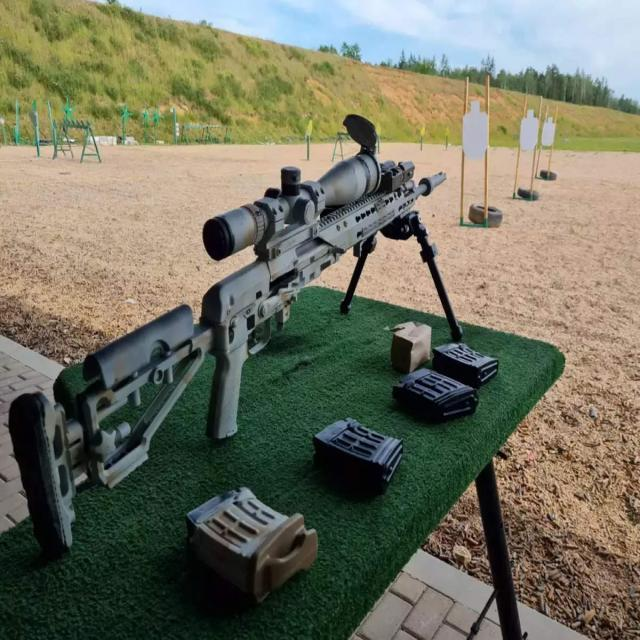scope: (184, 121, 398, 250)
sniper rifle: (12, 146, 475, 529)
